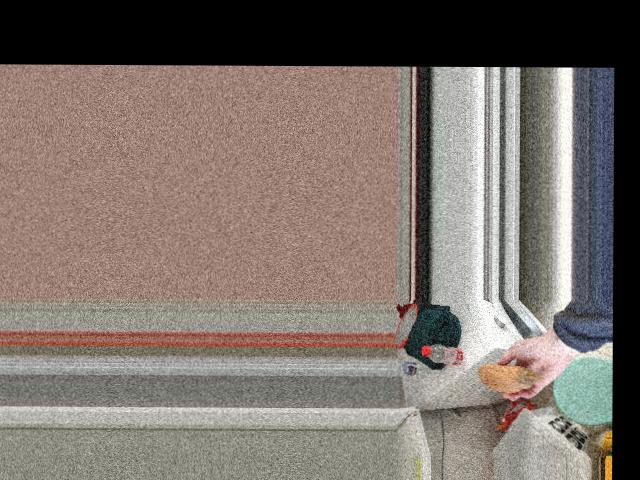sweet_potato: (464, 364, 532, 390)
